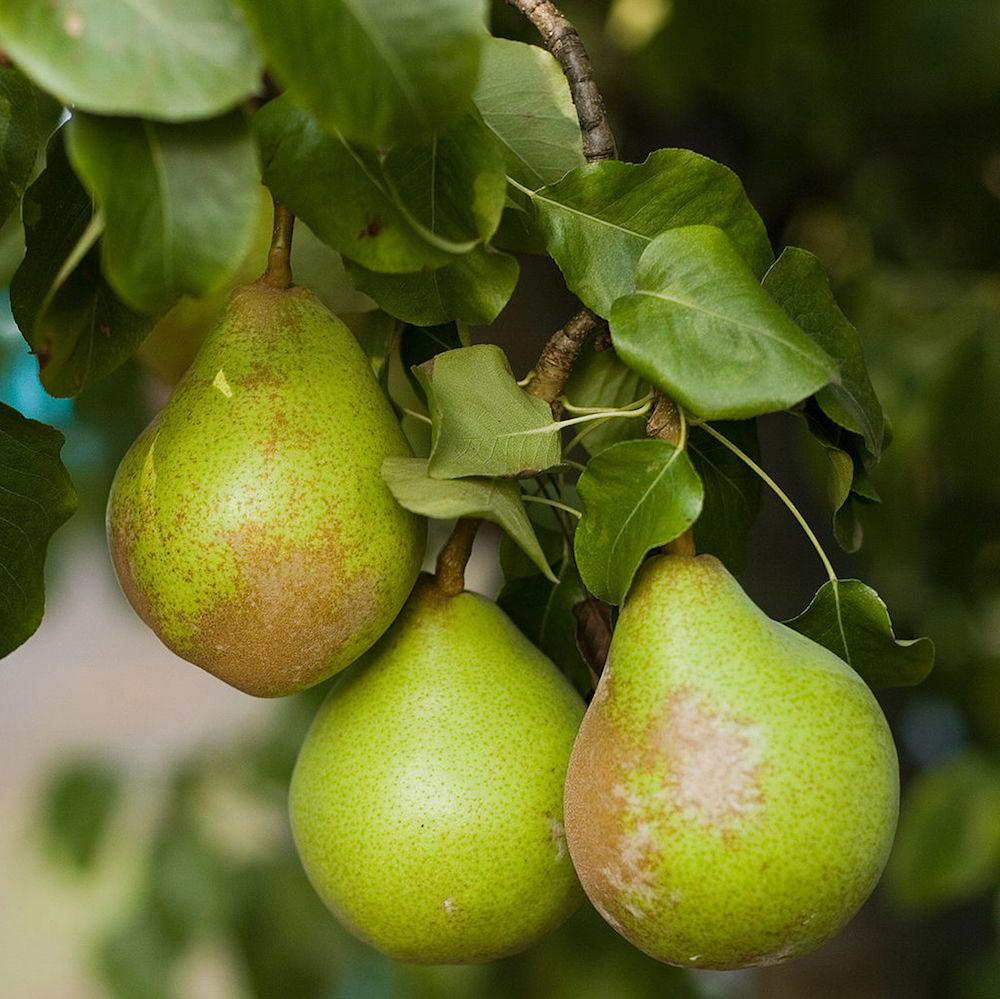pear: (561, 551, 901, 971), (104, 276, 428, 698), (286, 571, 589, 965)
